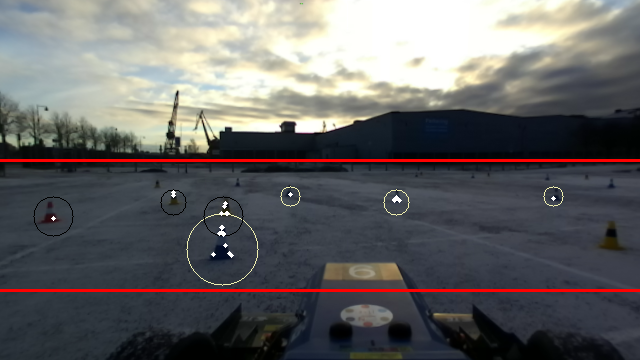blue: (208, 226, 234, 263), (548, 185, 563, 204), (390, 188, 402, 204), (605, 177, 618, 189), (284, 183, 293, 197)
orange: (35, 201, 61, 225)
yellow: (598, 220, 624, 251), (166, 189, 181, 207), (218, 198, 232, 216)
